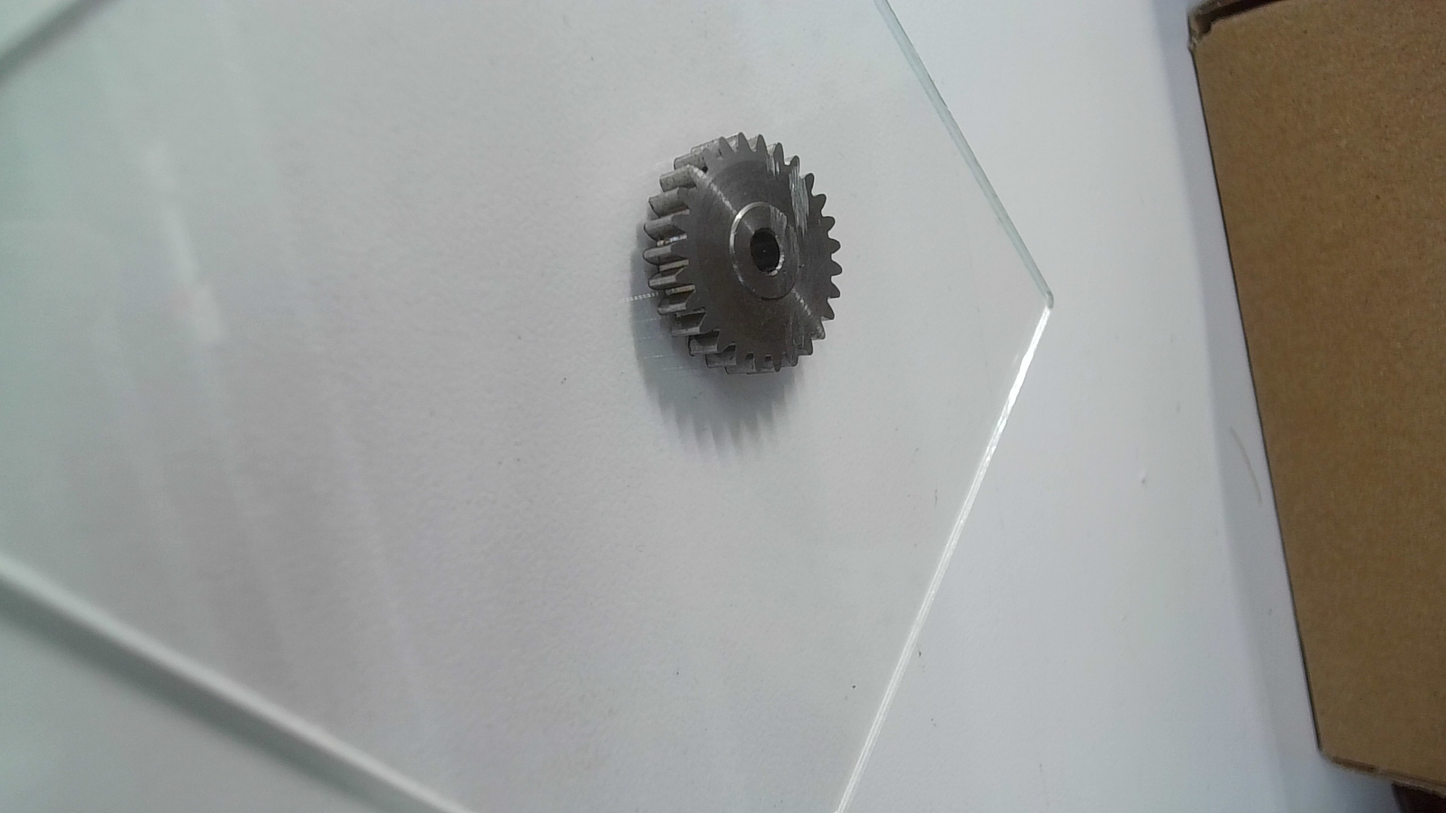gear: (642, 130, 840, 379)
